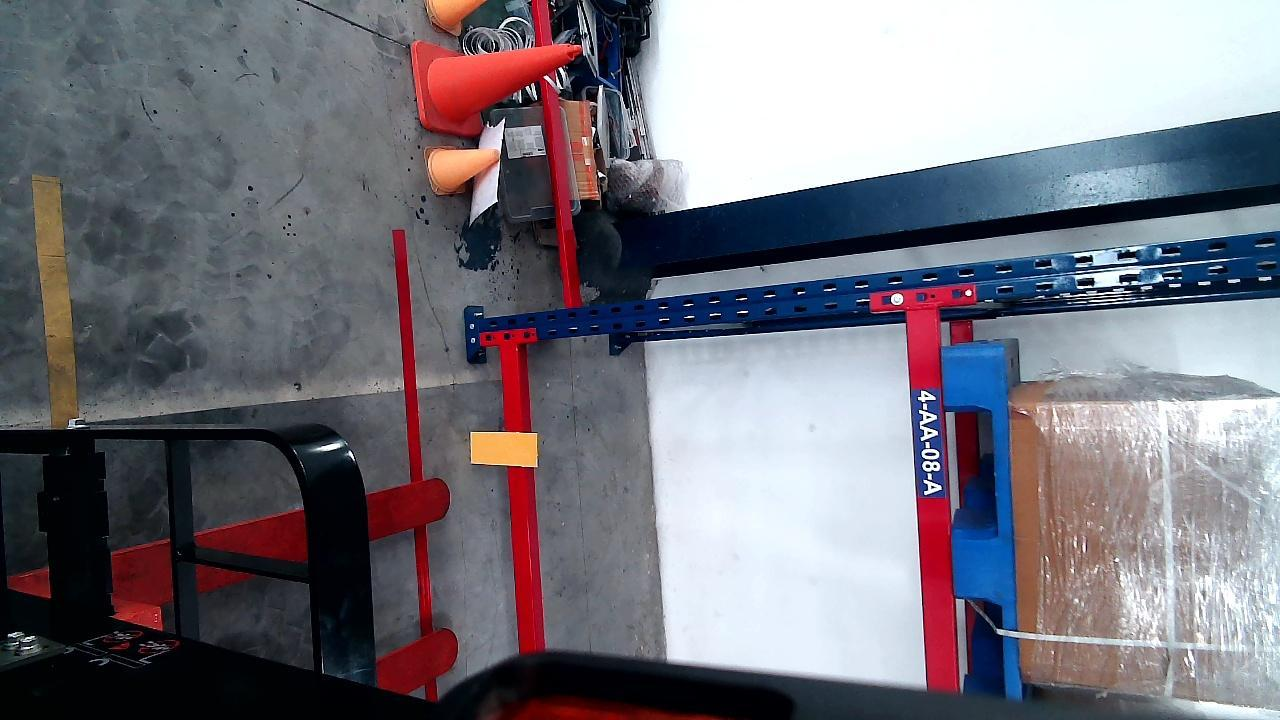red_line: (392, 231, 430, 633)
yellow_line: (33, 164, 80, 432)
